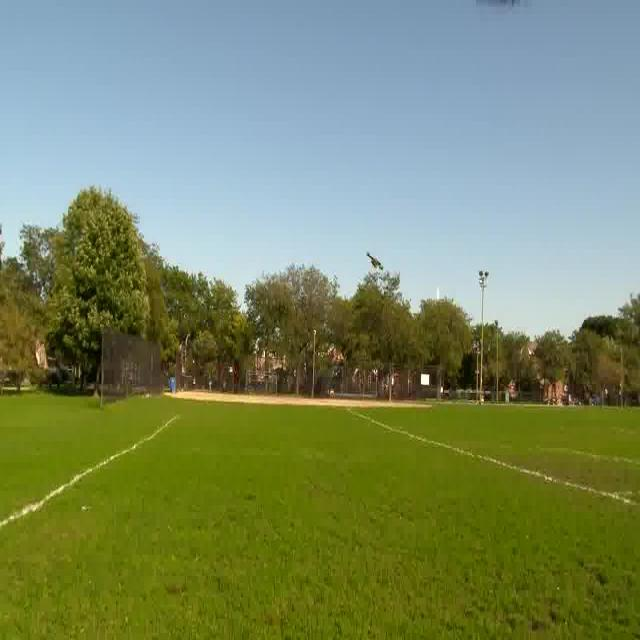drone: (360, 241, 388, 277)
